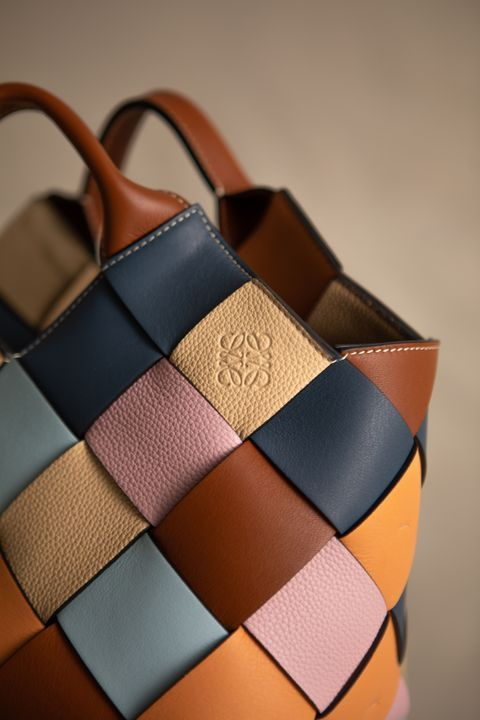cuero: (1, 79, 442, 720)
